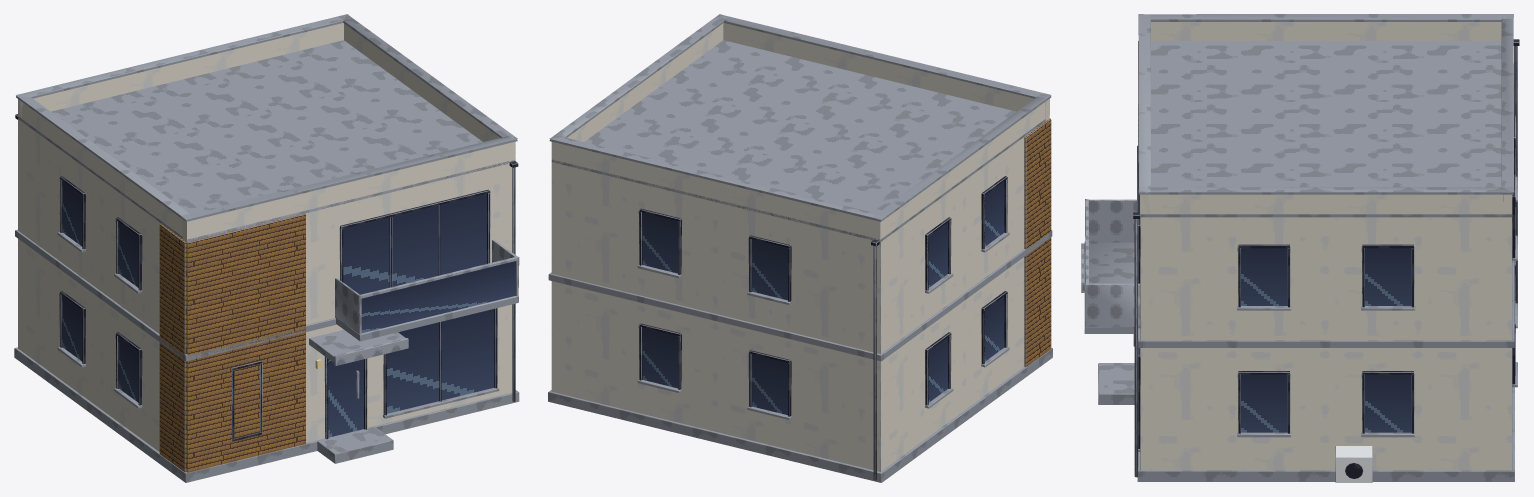
The model's file is modern_house_0.glb.
3 views of the same model, side by side, from view 1: azimuth 30°, elevation 25°; view 2: azimuth 150°, elevation 25°; view 3: azimuth 270°, elevation 25° (orthographic). The views are drawn at different scales.
Visible parts, largest first — view 1: modern_house_1; view 2: modern_house_1; view 3: modern_house_1.
Boxes of the visible parts, <box> form: modern_house_1: <box>14,14,519,482</box>; modern_house_1: <box>548,14,1052,482</box>; modern_house_1: <box>1081,14,1519,482</box>.
Bounding box in the file's own units: 9.8 × 6.86 × 9.43.
9 materials, 9 textured.
